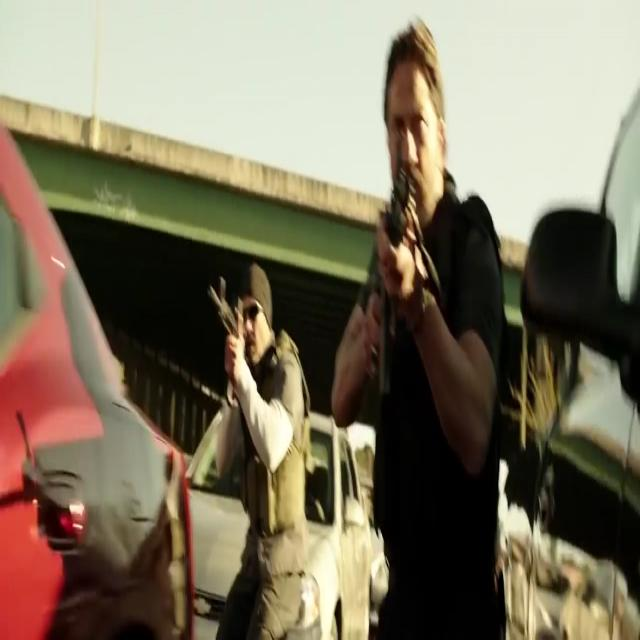Weapon: (344, 110, 439, 432), (191, 206, 266, 383)
